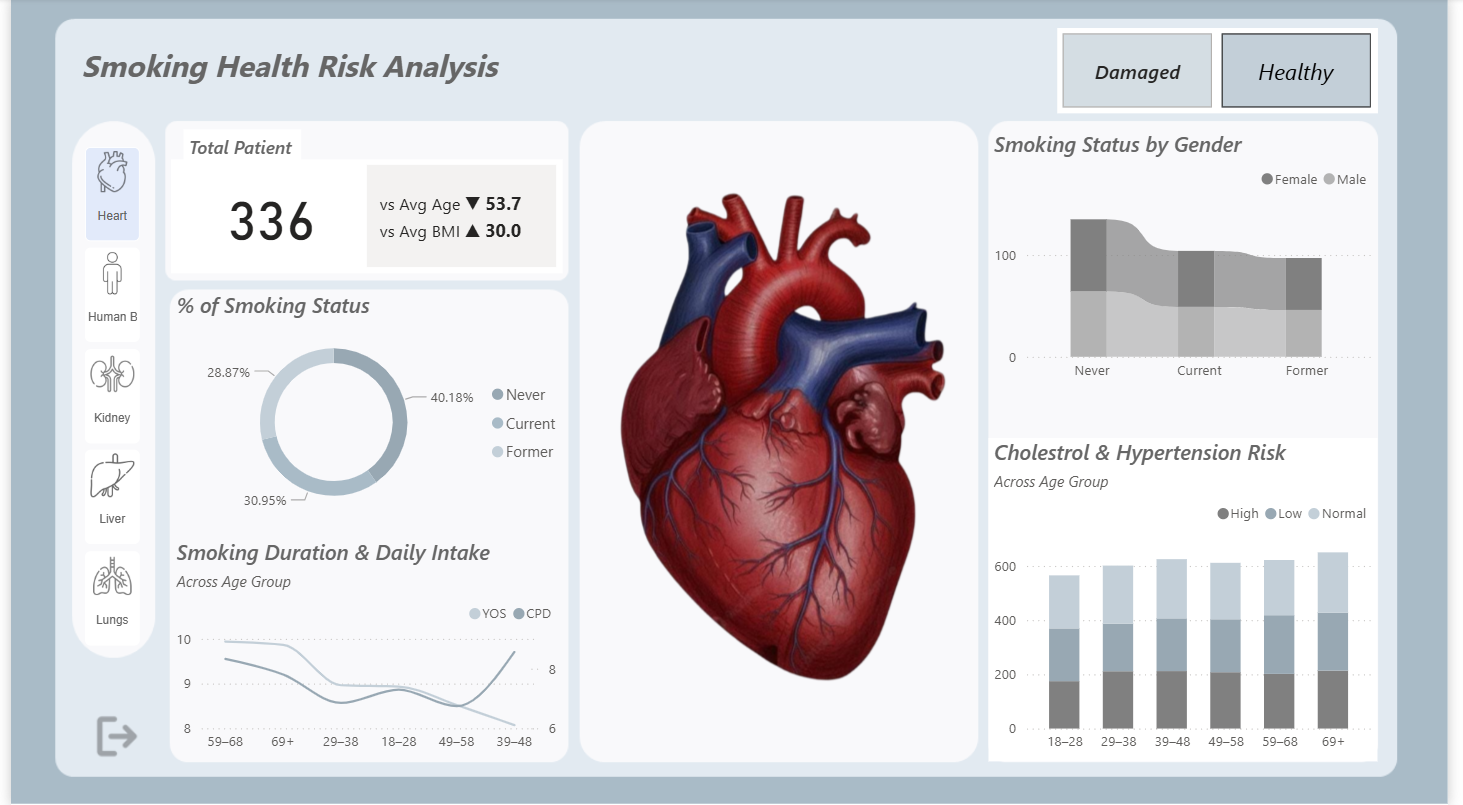

The dashboard page shown, as its layout file describes it:
{"tool":"powerbi","page":{"name":"Page 1","canvas":[1280,720],"ordinal":0},"visuals":[{"type":"cardVisual","fields":{"Data":["CountNonNull(health_dataset.Patient_ID)"]},"box":[142.4,143.6,348.7,101.3],"z":0},{"type":"textbox","box":[153.2,117,105,37.4],"z":1000},{"type":"advancedSlicerVisual","fields":{"Values":["condition.Organ_Condition"]},"box":[931.4,26.5,285.9,76],"z":2000},{"type":"ChicletSlicer1448559807354","fields":{"Category":["Organs.Organ"],"Image":["Organs.Icon_URL"]},"box":[57.9,124.3,72.4,469.3],"z":3000},{"type":"simpleImageEBC4593F96F1425FB3D84C5BF02B5075","fields":{"imageURL":["Image Dataset.Image URL"]},"box":[520,102.5,330.6,577.9],"z":4000},{"type":"donutChart","title":"% of Smoking Status","fields":{"Category":["health_dataset.Smoking_Status"],"Y":["CountNonNull(health_dataset.Smoking_Status)"]},"box":[142.4,260.6,357.1,209.9],"z":5000},{"type":"lineChart","title":"Smoking Duration & Daily Intake","fields":{"Category":["health_dataset.Age Group"],"Y":["Avg(health_dataset.Years_of_Smoking)"],"Y2":["Avg(health_dataset.Cigarettes_Per_Day)"]},"box":[142.4,481.4,348.7,199.1],"z":6000},{"type":"ribbonChart","title":"Smoking Status by Gender","fields":{"Category":["health_dataset.Smoking_Status"],"Y":["CountNonNull(health_dataset.Patient_ID)"],"Series":["health_dataset.Gender"]},"box":[871.1,117,346.2,232.8],"z":7000},{"type":"columnChart","title":"Cholestrol & Hypertension Risk","fields":{"Category":["health_dataset.Age Group"],"Y":["Avg(health_dataset.Cholesterol_Level)"],"Series":["health_dataset.BP_Risk"]},"box":[871.1,392.1,346.2,288.3],"z":8000},{"type":"textbox","box":[57.9,36.2,382.4,53.1],"z":9000}]}

Visuals, with their boxes in screenshot pixels (x1, y1, x2, y2), scaled from the page's 1280x720 canvas onto the 1463x805 screenshot:
cardVisual - CountNonNull(health_dataset.Patient_ID): {"x1": 163, "y1": 161, "x2": 561, "y2": 274}
textbox: {"x1": 175, "y1": 131, "x2": 295, "y2": 173}
advancedSlicerVisual - condition.Organ_Condition: {"x1": 1065, "y1": 30, "x2": 1391, "y2": 115}
ChicletSlicer1448559807354 - Organs.Organ x Organs.Icon_URL: {"x1": 66, "y1": 139, "x2": 149, "y2": 664}
simpleImageEBC4593F96F1425FB3D84C5BF02B5075 - Image Dataset.Image URL: {"x1": 594, "y1": 115, "x2": 972, "y2": 761}
"% of Smoking Status" donutChart: {"x1": 163, "y1": 291, "x2": 571, "y2": 526}
"Smoking Duration & Daily Intake" lineChart: {"x1": 163, "y1": 538, "x2": 561, "y2": 761}
"Smoking Status by Gender" ribbonChart: {"x1": 996, "y1": 131, "x2": 1391, "y2": 391}
"Cholestrol & Hypertension Risk" columnChart: {"x1": 996, "y1": 438, "x2": 1391, "y2": 761}
textbox: {"x1": 66, "y1": 40, "x2": 503, "y2": 100}
